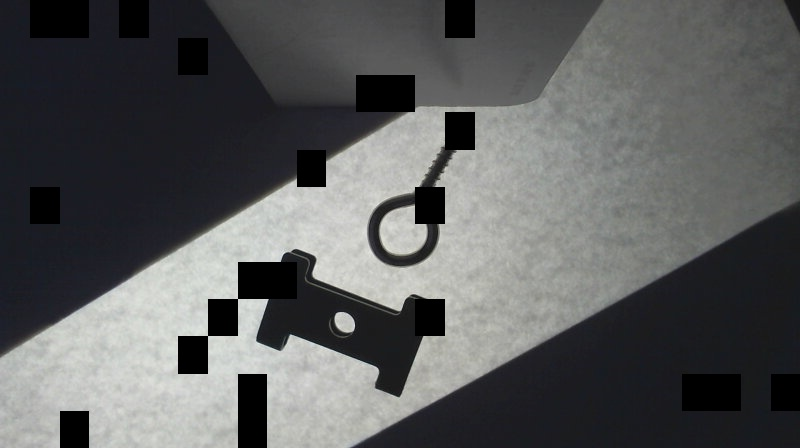O001: (364, 129, 466, 268)
O002: (256, 247, 437, 397)
